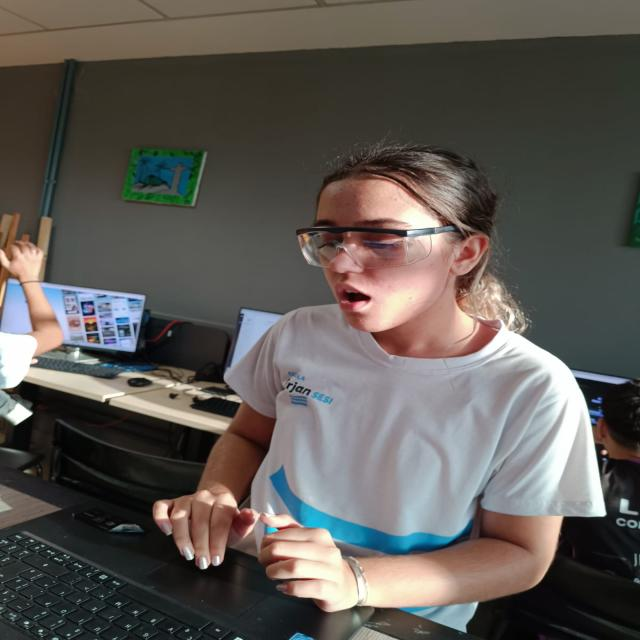oculos-epi: (297, 224, 454, 270)
